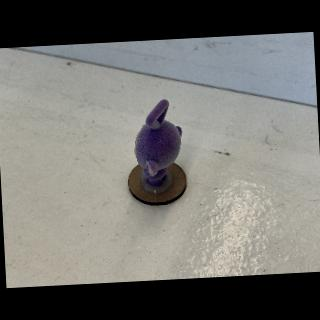teletubby: (135, 99, 182, 186)
